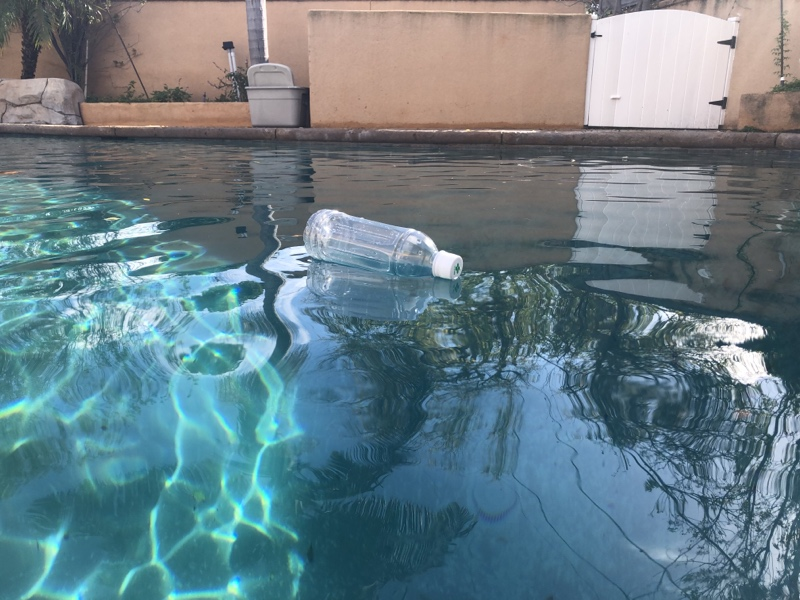Plastic Bottle: (299, 206, 464, 281)
